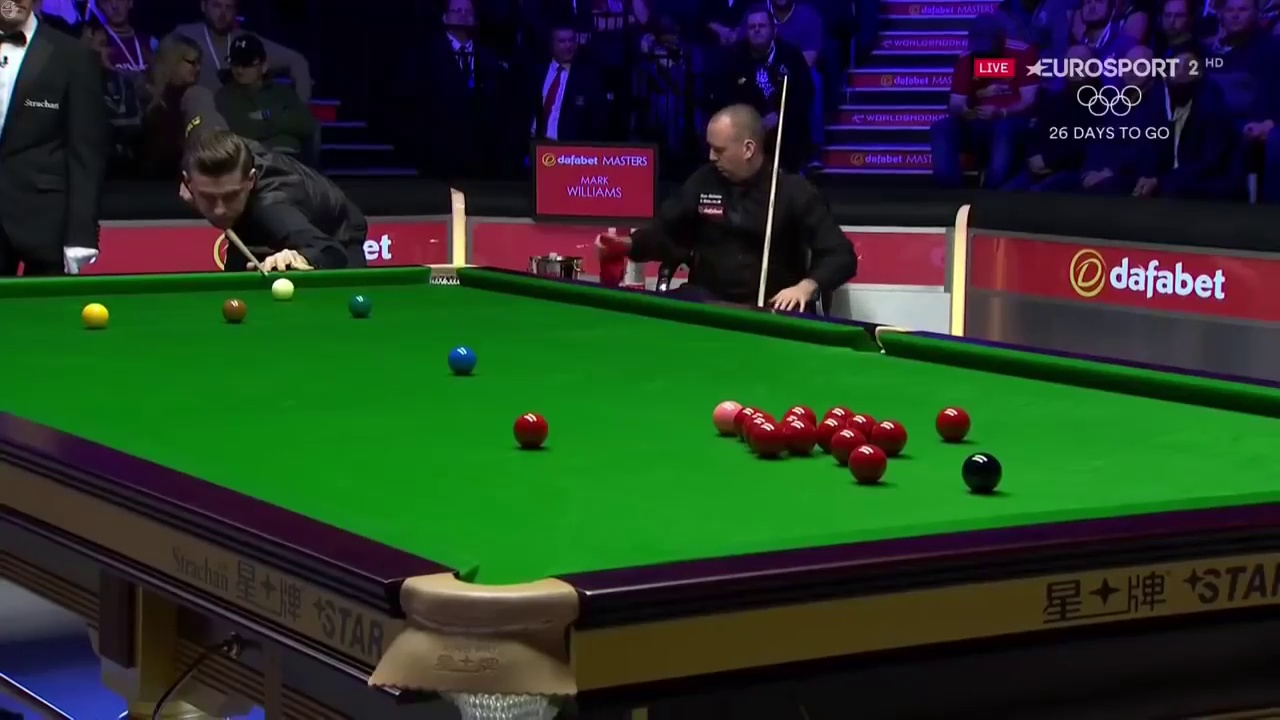black: (961, 450, 1002, 491)
blue: (447, 345, 478, 372)
brown: (222, 296, 245, 321)
green: (347, 294, 371, 315)
pink: (711, 397, 735, 437)
red: (514, 410, 550, 448), (850, 446, 887, 481), (935, 405, 970, 442), (752, 422, 785, 456)
white: (270, 275, 295, 302)
yellow: (78, 299, 111, 329)
